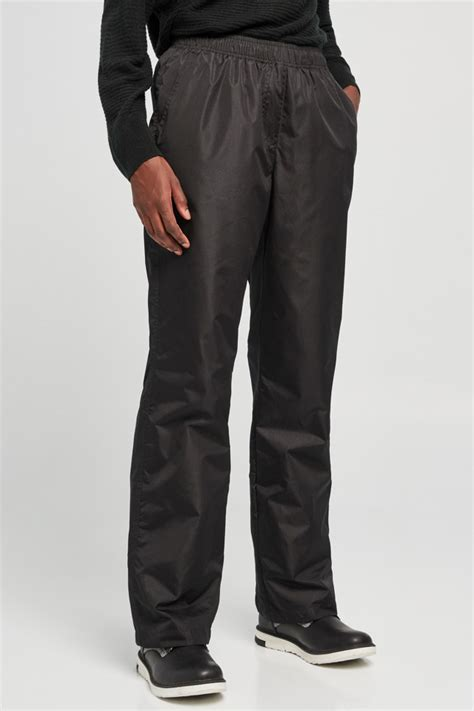nylon: (127, 32, 357, 652)
